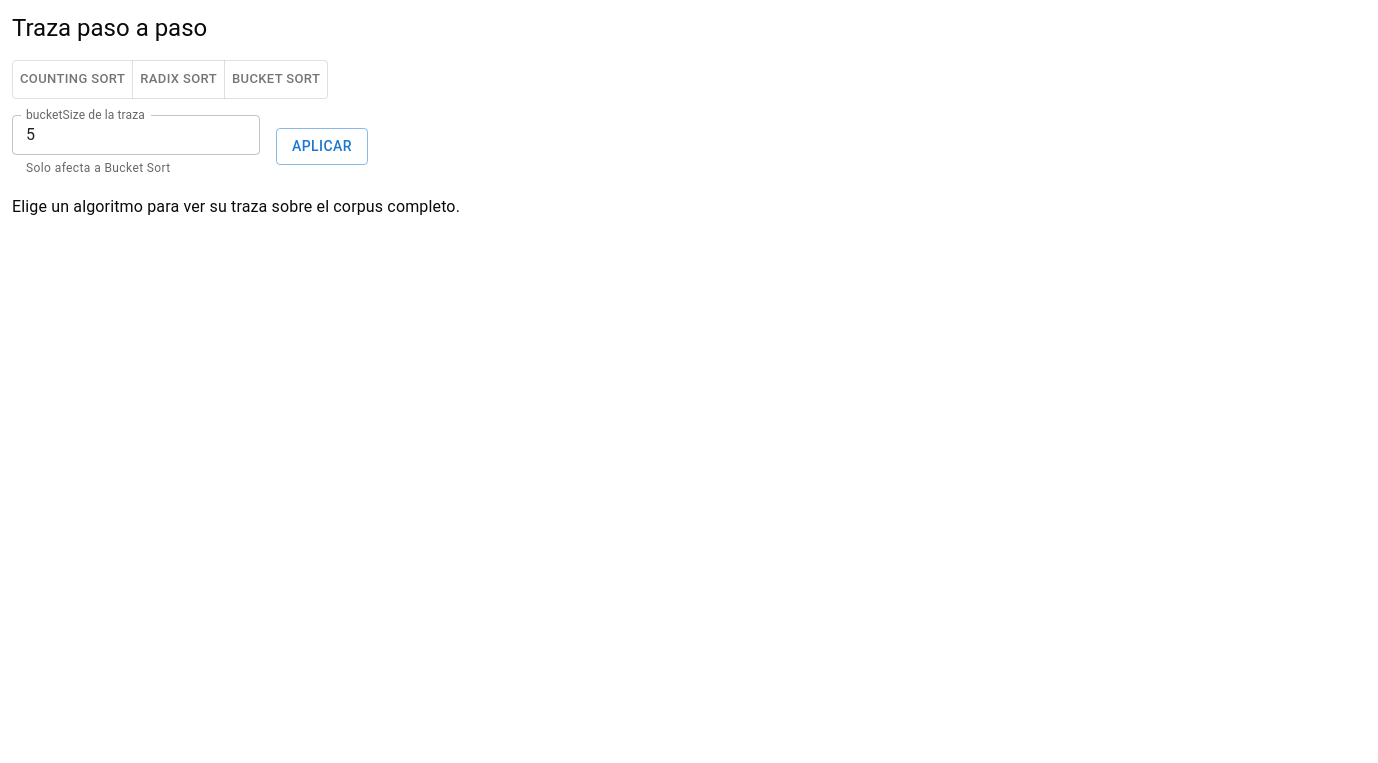
SortTraceView (REQ-16, AC-12, AC-25) › muestra los pasos de Counting Sort en orden y pagina el arreglo de 88 en 0–49 y 50–87
Click the button "Counting Sort" at point(73, 79), box 12,60 -> 133,99
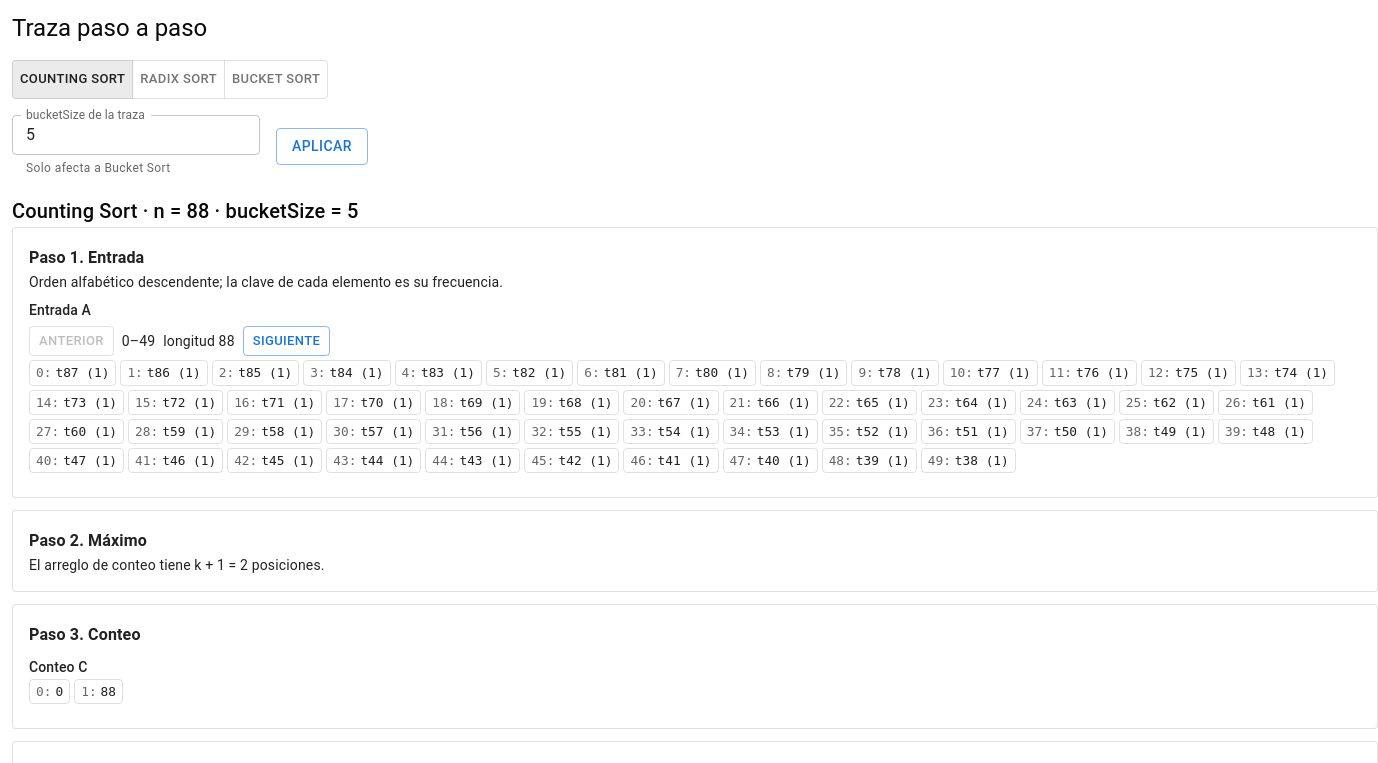
Check: the heading "Paso 1. Entrada" is shown, box 29,248 -> 144,267
Check: the text "0–49" is shown, box 122,331 -> 155,351
Check: the text "longitud 88" is shown, box 163,331 -> 235,351
Click the button with aria-label "Entrada A: página siguiente" at point(286, 341), box 243,326 -> 330,356
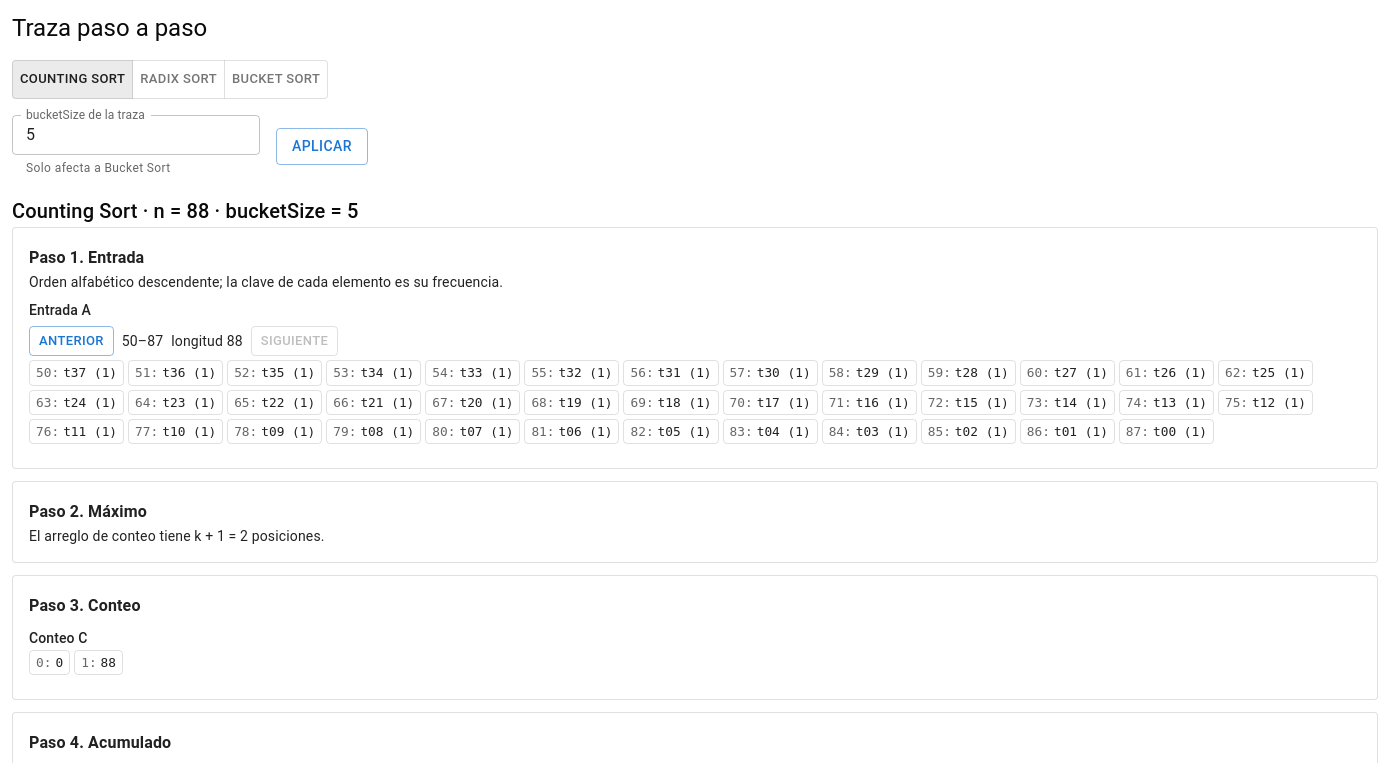
Check: the text "longitud 88" is shown, box 171,331 -> 243,351
Check: the text "50–87" is shown, box 122,331 -> 163,351
Check: the text "t00 (1)" is shown, box 1153,424 -> 1207,439
